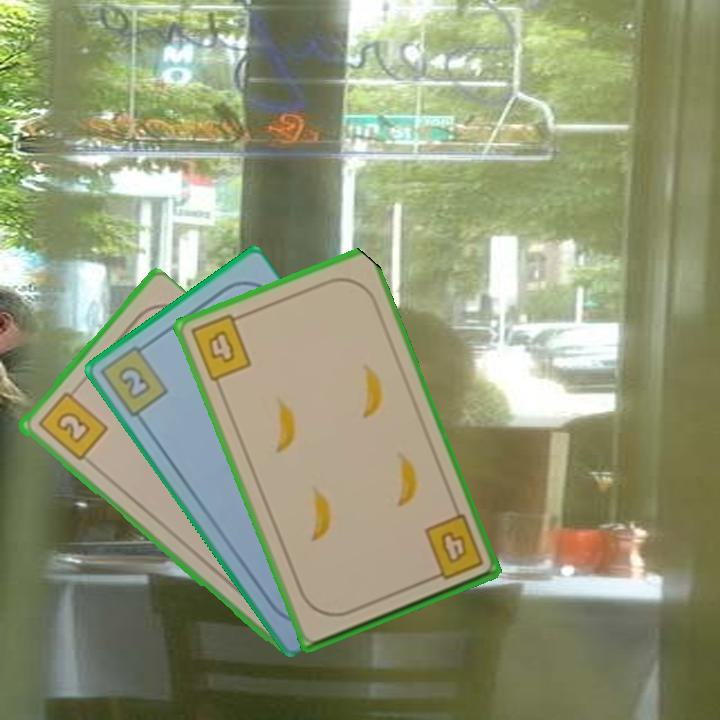2b: (34, 383, 110, 464), (97, 338, 171, 420)
4b: (187, 309, 254, 384), (420, 511, 486, 585)
